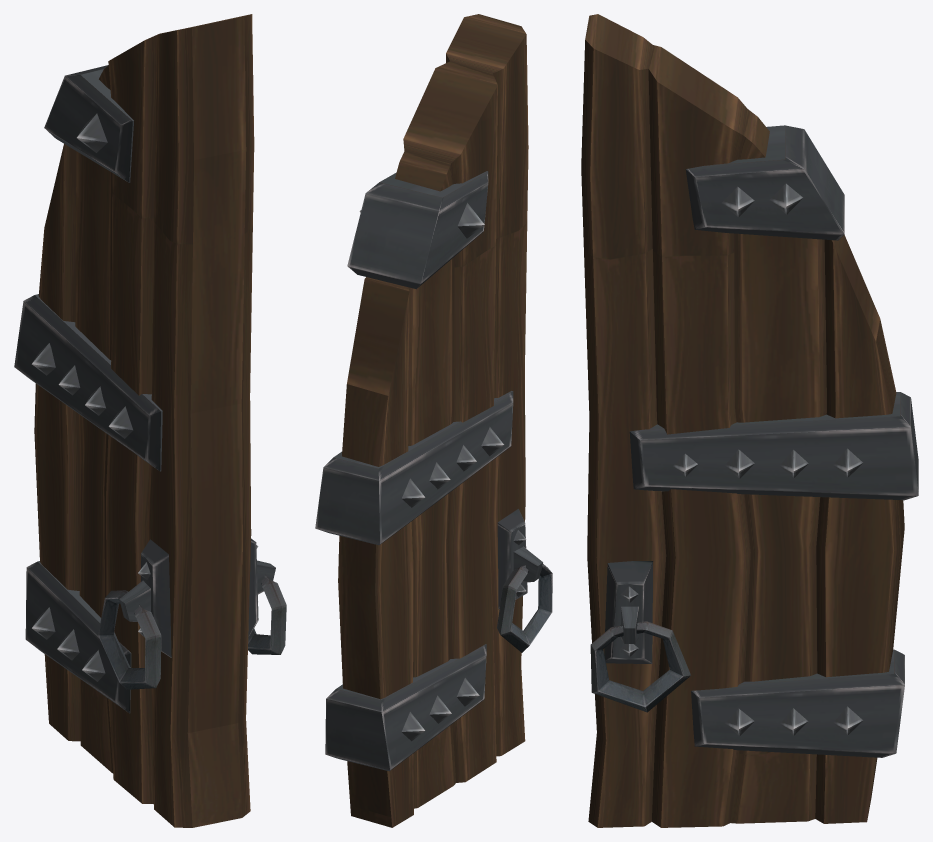
Rendered from A_CA_GEN_DoorRight_01.fbx.
3 views of the same model, side by side, from view 1: azimuth 30°, elevation 25°; view 2: azimuth 150°, elevation 25°; view 3: azimuth 270°, elevation 25° (orthographic). The views are drawn at different scales.
Visible parts, largest first — view 1: A_CA_GEN_DoorRight_01; view 2: A_CA_GEN_DoorRight_01; view 3: A_CA_GEN_DoorRight_01.
Boxes of the visible parts, x1,y1,x2,y2 form: A_CA_GEN_DoorRight_01: [14, 14, 286, 827]; A_CA_GEN_DoorRight_01: [315, 14, 552, 827]; A_CA_GEN_DoorRight_01: [581, 14, 918, 827].
Size of the model in its own units: 196 by 1015 by 397.
1 material, 1 textured.
